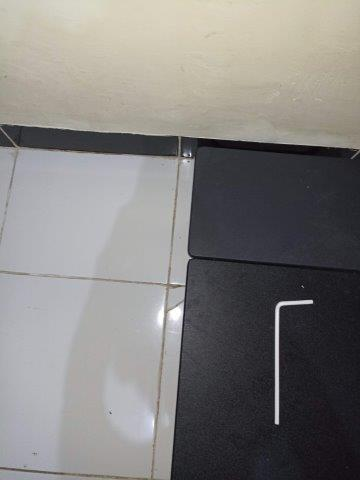sedotan: (274, 299, 313, 424)
